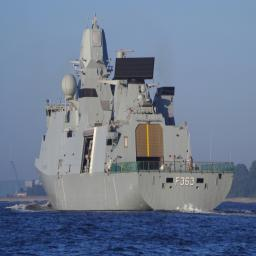Fragata: (31, 15, 238, 216)
